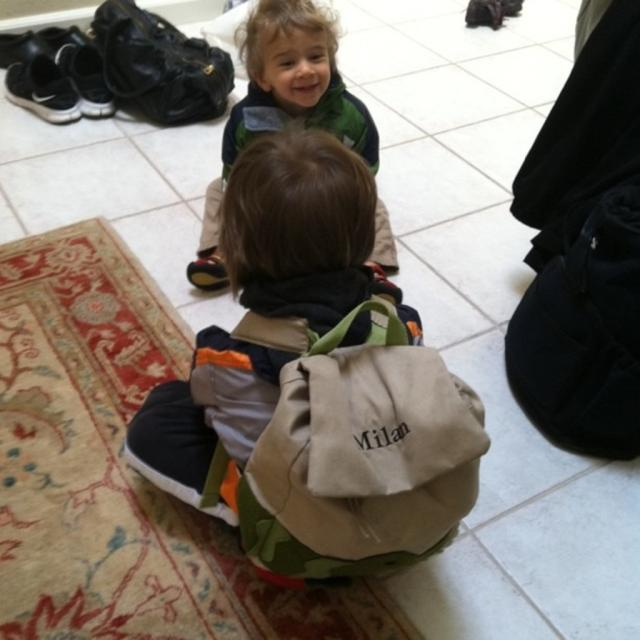backpack: (210, 294, 488, 578), (506, 180, 640, 459), (93, 0, 232, 124)
